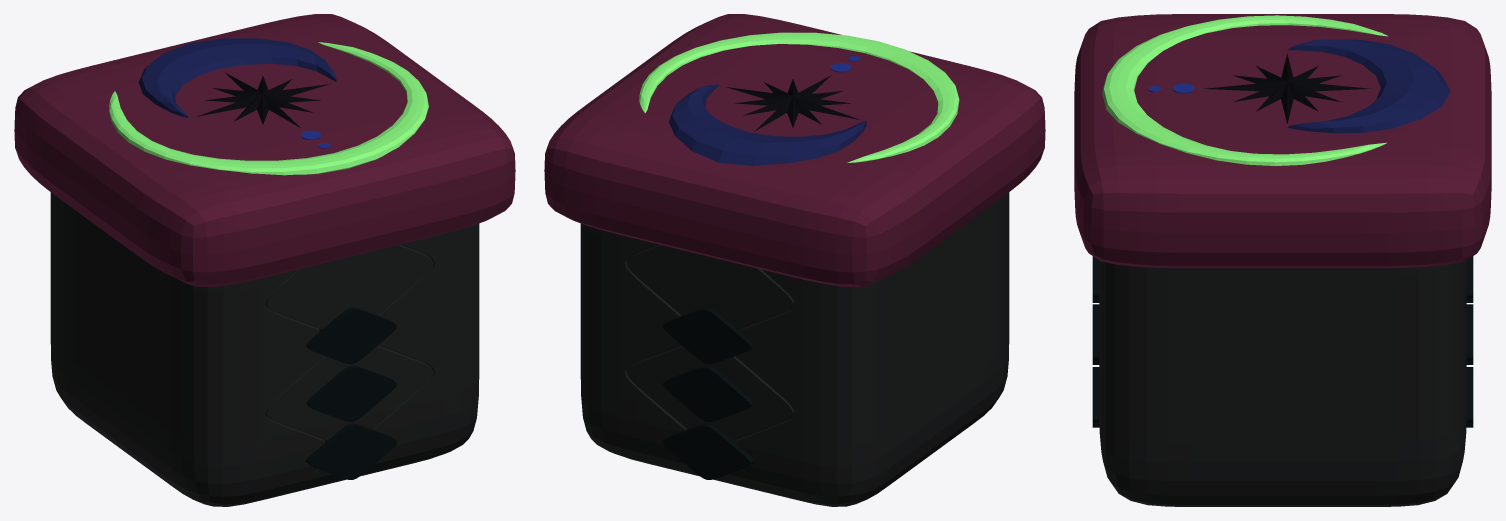
The model's file is st3_ground5.fbx.
3 renders of one model, left to right at view 1: azimuth 30°, elevation 25°; view 2: azimuth 150°, elevation 25°; view 3: azimuth 270°, elevation 25°, orthographic. The views are drawn at different scales.
Parts seen in each view (by area): view 1: block5_grass_1; view 2: block5_grass_1; view 3: block5_grass_1.
Boxes of the visible parts, x1=… form: block5_grass_1: x1=14, y1=14, x2=515, y2=506; block5_grass_1: x1=544, y1=14, x2=1045, y2=506; block5_grass_1: x1=1074, y1=14, x2=1491, y2=506.
Size of the model in its own units: 237 by 221 by 227.
